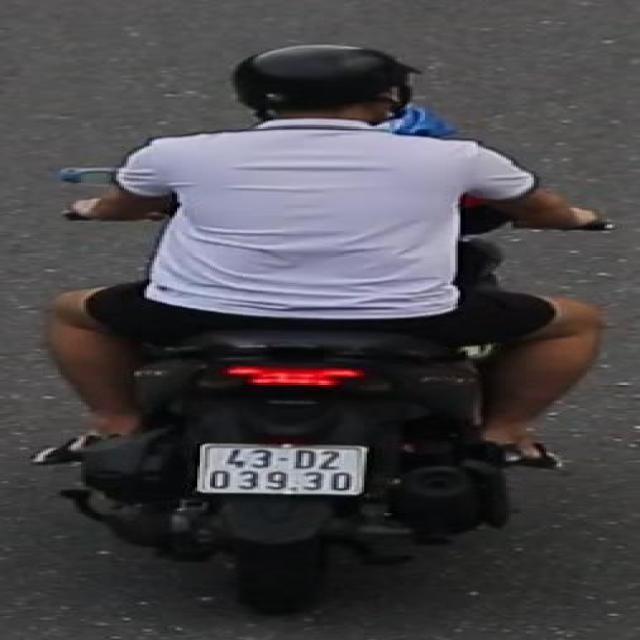LP: (190, 441, 377, 502)
helmet: (216, 38, 432, 138)
